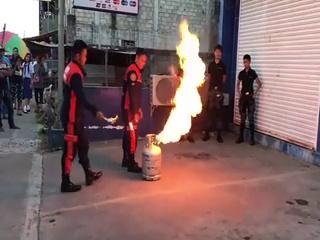Fire: (154, 16, 207, 145)
